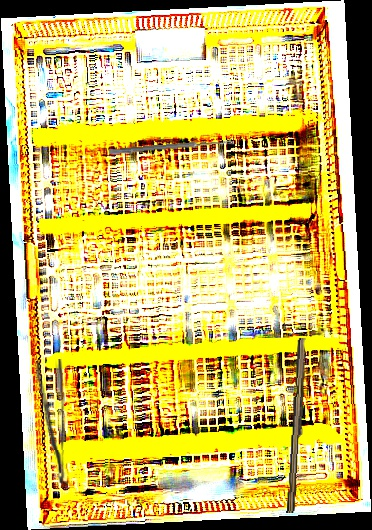Dressing Forceps: (34, 358, 67, 485)
Scalpel Handle: (286, 337, 309, 514)
Surgical Spoon: (108, 138, 235, 156)
